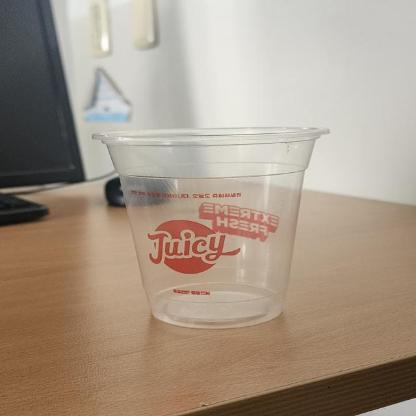Plastic Cup: (90, 124, 332, 327)
